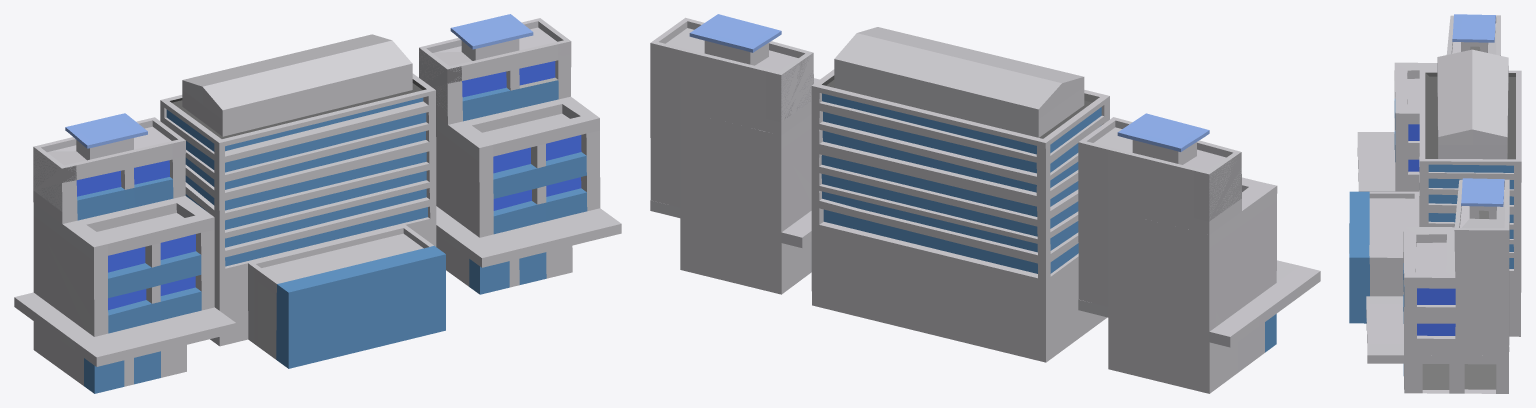
File: Building7th.glb
3 views of the same model, side by side, from view 1: azimuth 30°, elevation 25°; view 2: azimuth 150°, elevation 25°; view 3: azimuth 270°, elevation 25° (orthographic). The views are drawn at different scales.
Visible parts, largest first — view 1: Cube.201; view 2: Cube.201; view 3: Cube.201.
Part boxes in pixels (x1,y1,x2,y2): Cube.201: (14, 14, 621, 393); Cube.201: (650, 14, 1320, 393); Cube.201: (1349, 14, 1521, 393).
Bounding box in the file's own units: 8.15 × 3.49 × 2.66.
